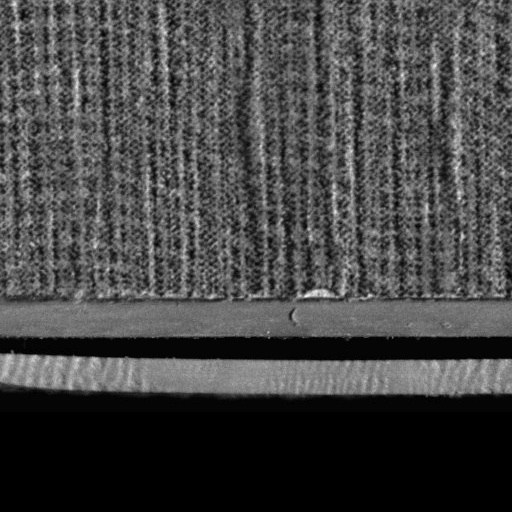kaijiao: (0, 293, 511, 402)
